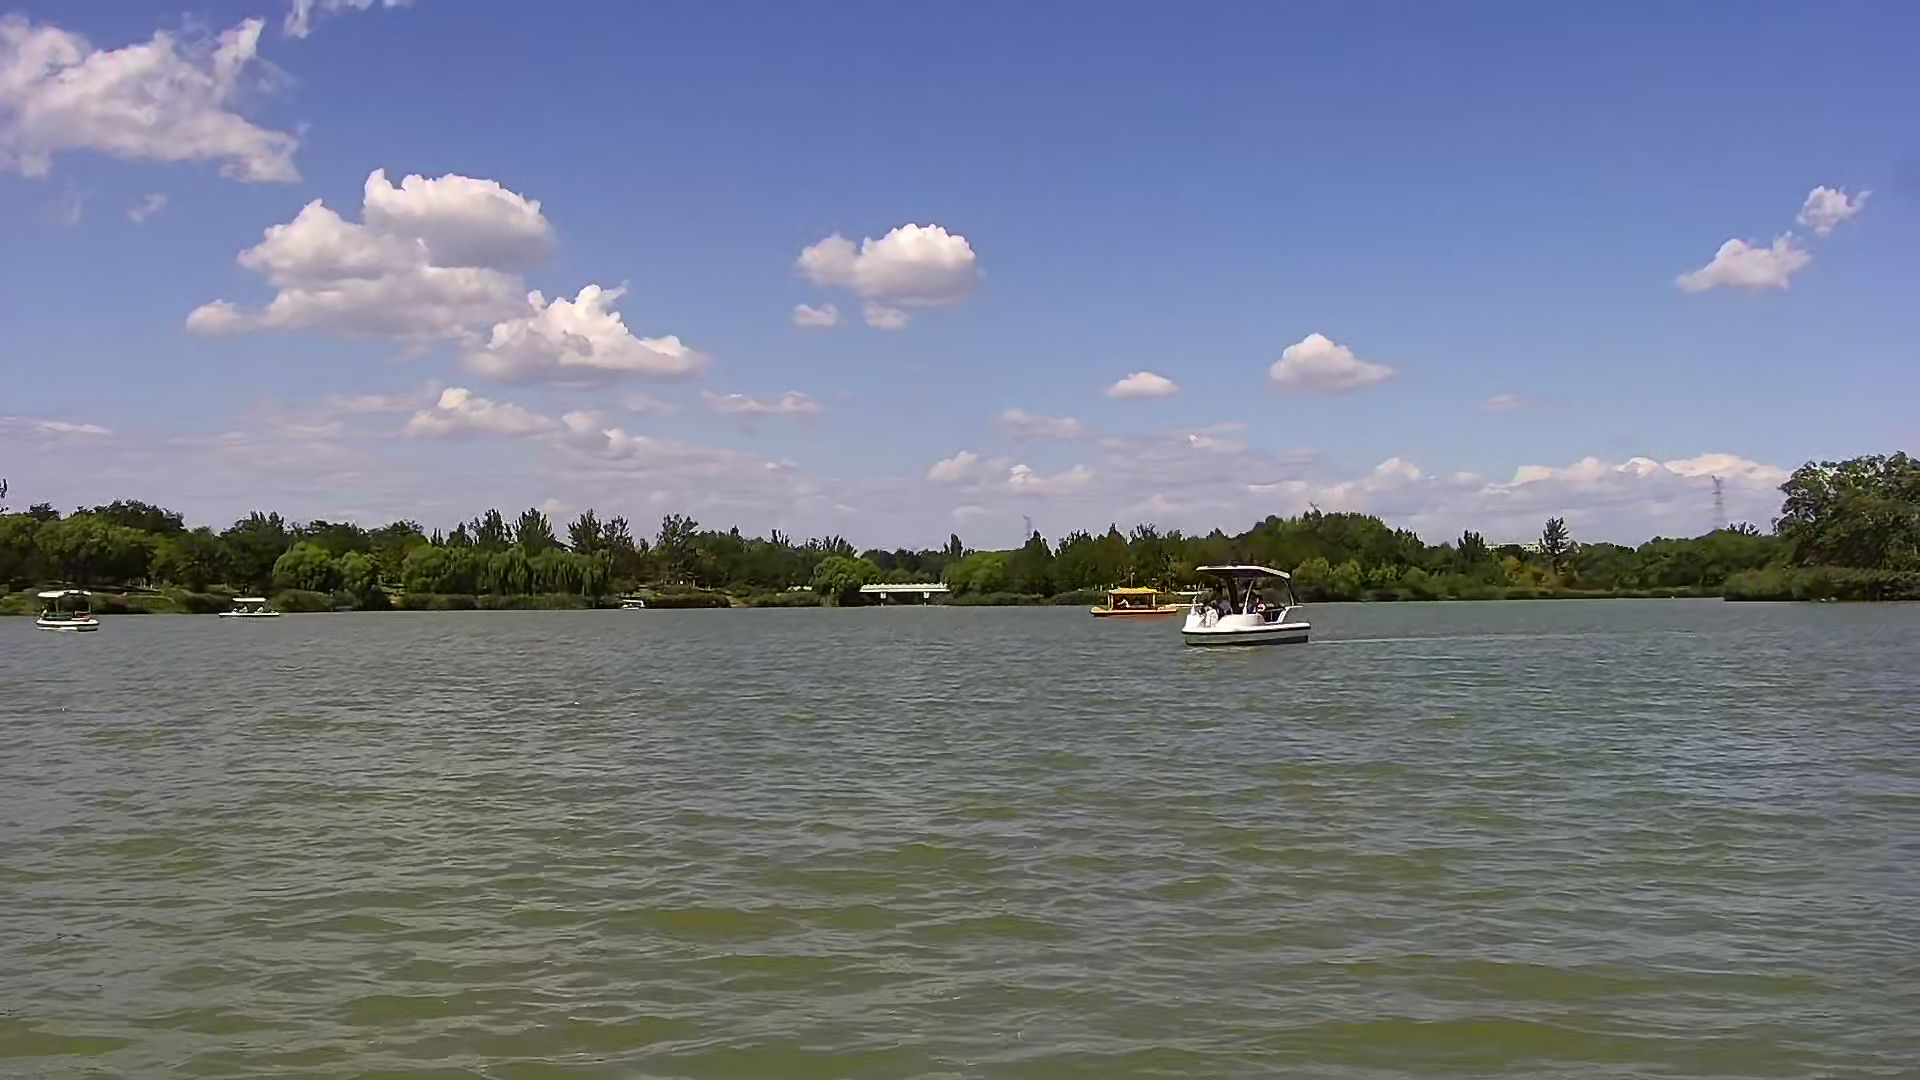boat: (1185, 564, 1309, 647), (33, 585, 98, 626), (1093, 582, 1175, 609), (222, 591, 276, 615)
bridge: (862, 579, 951, 605)
